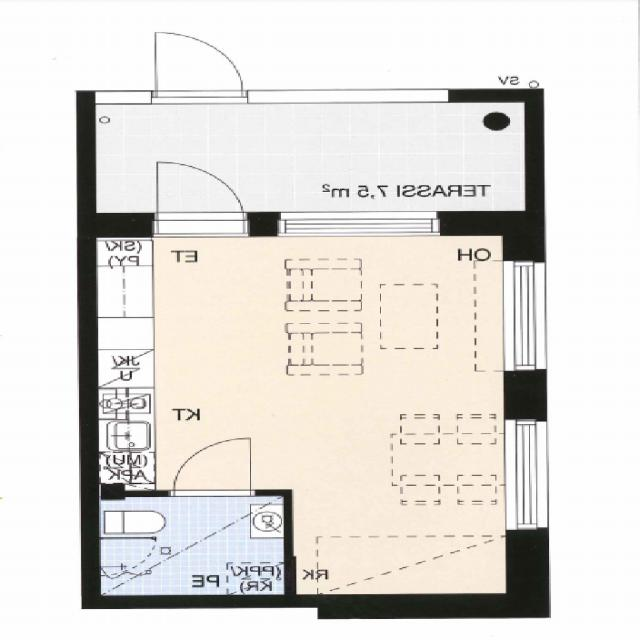door: (157, 153, 244, 236), (176, 438, 252, 497)
